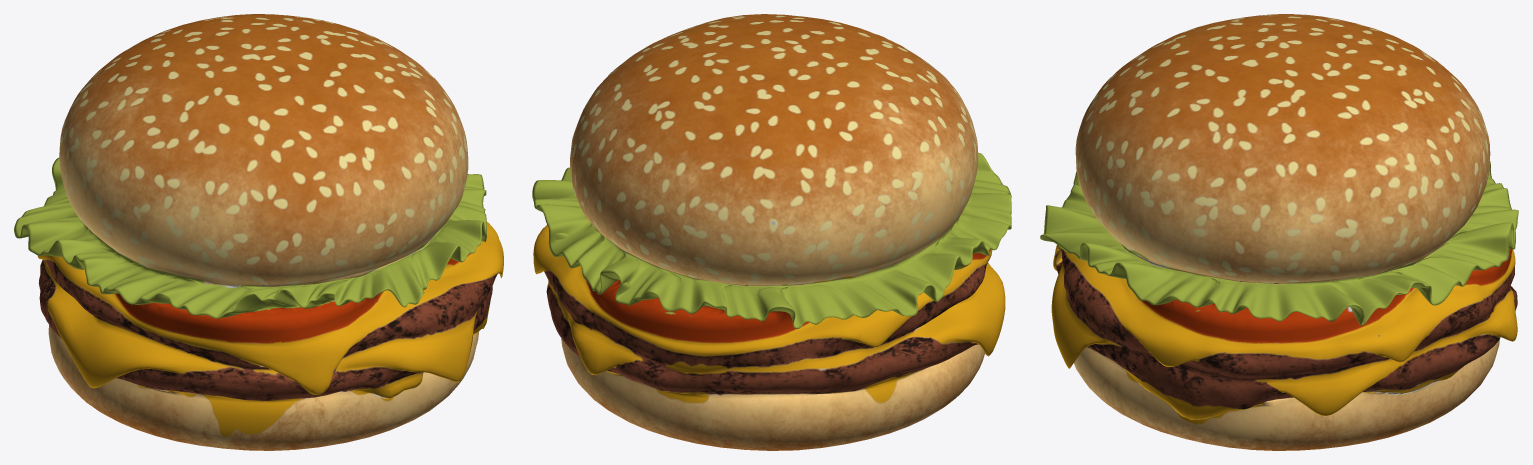
File: doblecarne.glb
3 views of the same model, side by side, from view 1: azimuth 30°, elevation 25°; view 2: azimuth 150°, elevation 25°; view 3: azimuth 270°, elevation 25° (orthographic).
Parts seen in each view (by area): view 1: Object_2; view 2: Object_2; view 3: Object_2.
Boxes of the visible parts, x1,y1,x2,y2 form: Object_2: [14, 14, 503, 450]; Object_2: [532, 14, 1011, 450]; Object_2: [1040, 14, 1518, 450].
Size of the model in its own units: 3.83 by 3.04 by 3.89.
Materials: 1 (1 with a texture image).
